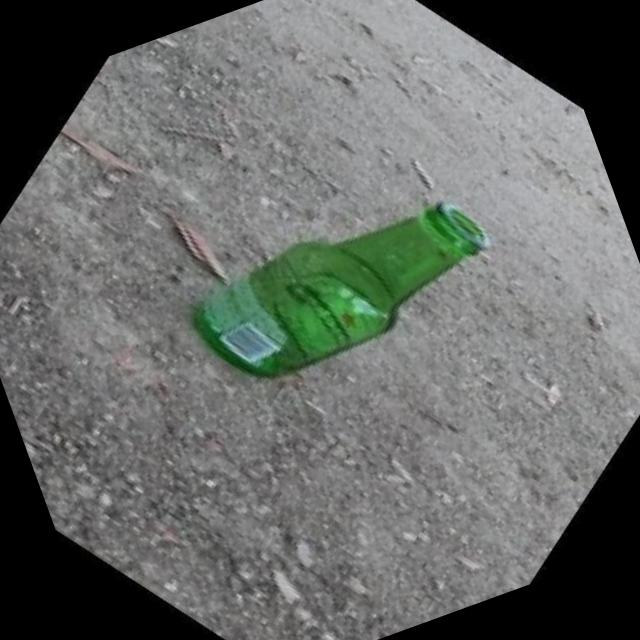BotolKaca: (178, 180, 512, 402)
